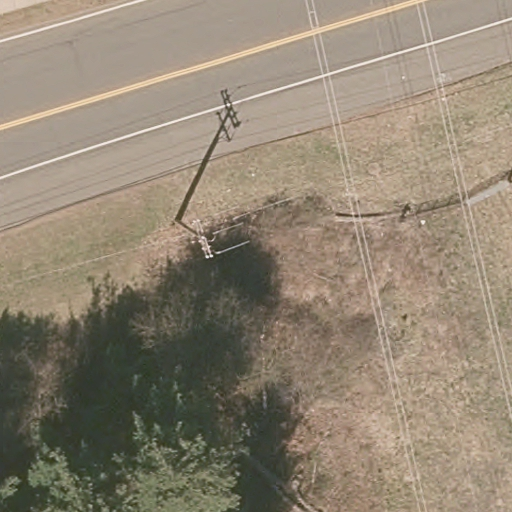DT: (171, 215, 215, 259)
